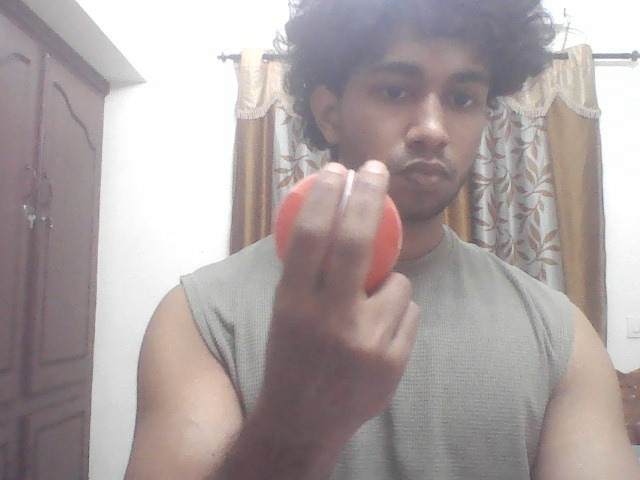cricket_ball: (269, 165, 408, 294)
